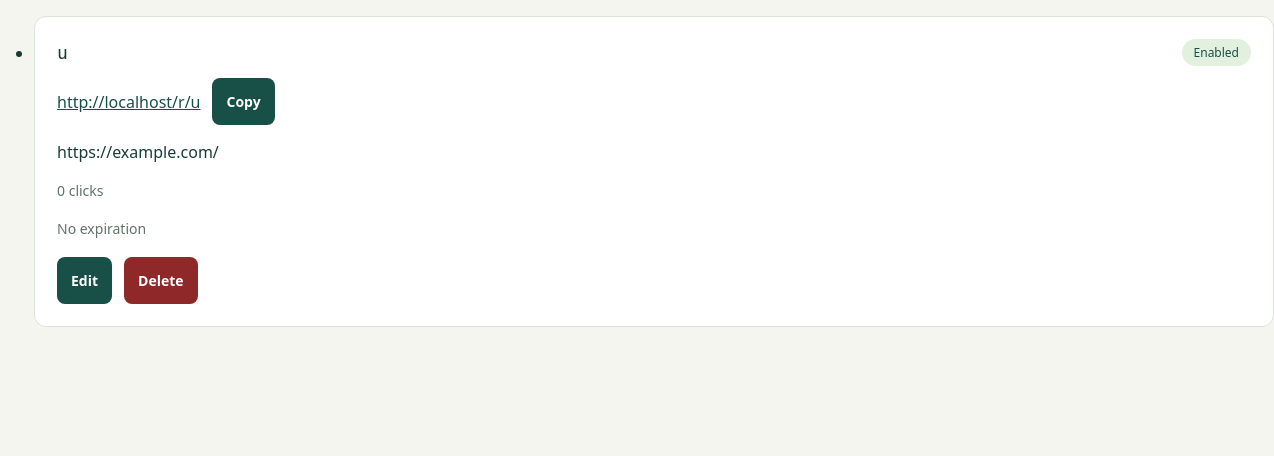
Test: failed deletion leaves the link and confirmation available
Click the button with aria-label "Delete link " at {"x": 161, "y": 280}, box [124,257,198,304]
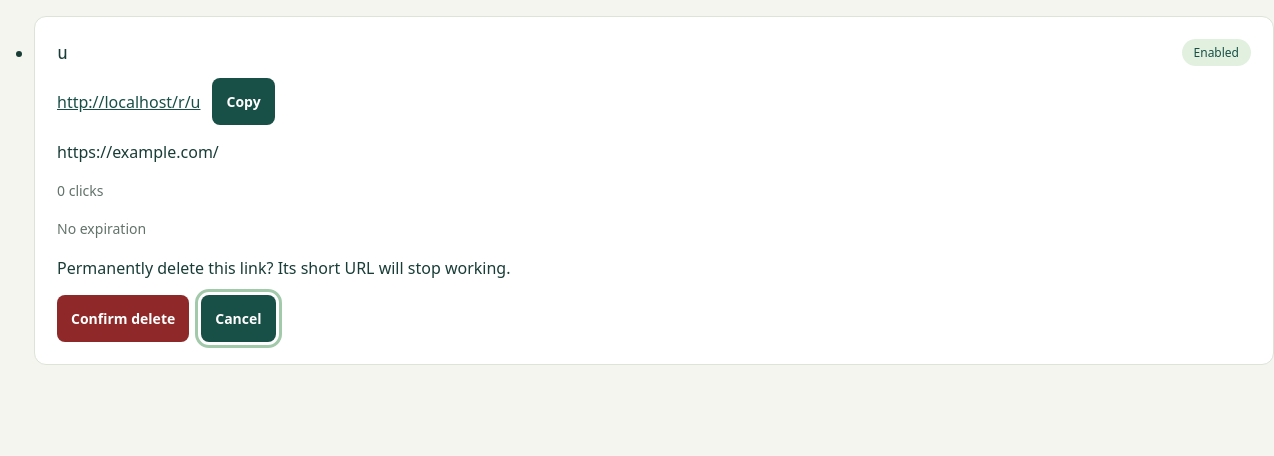
Click the button "Confirm delete" at {"x": 123, "y": 318}, box [57,295,189,342]
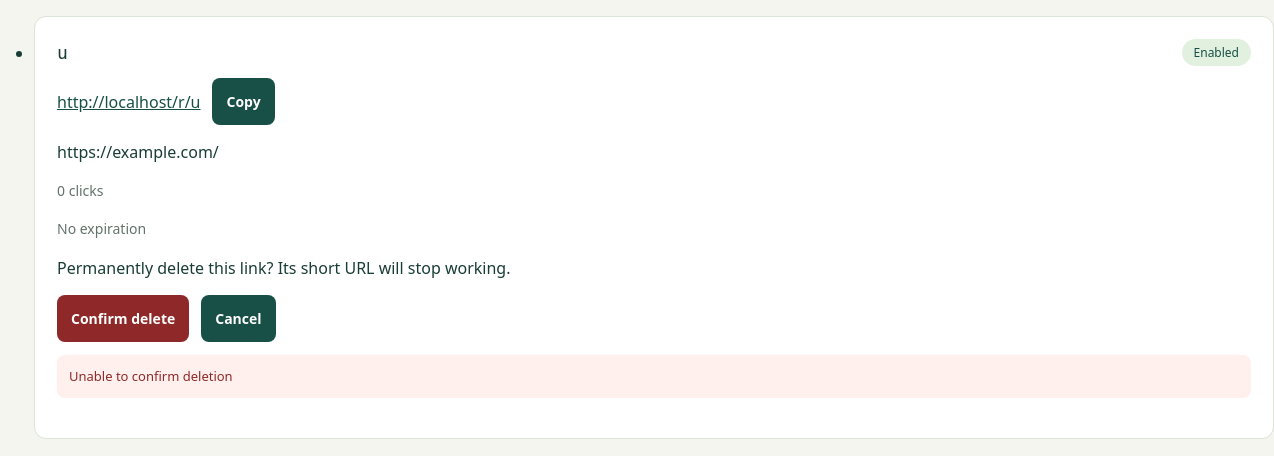
Check: the text "https://example.com/" is shown, box [57,141,219,163]
Check: the message reads "Unable to confirm deletion", box [69,367,233,385]
